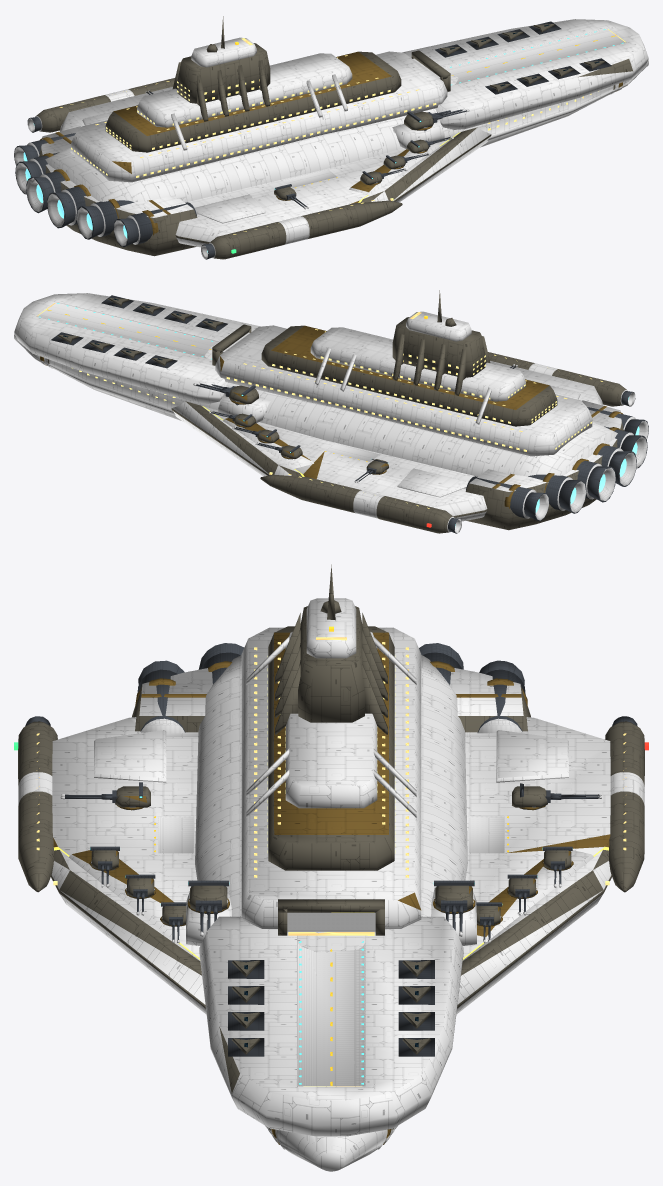
File: leviathan_production_v1_lod2.glb
The picture shows the model from 3 angles, top to bottom: view 1: azimuth 30°, elevation 25°; view 2: azimuth 150°, elevation 25°; view 3: azimuth 270°, elevation 25°; orthographic projection. The views are drawn at different scales.
Visible parts, largest first — view 1: LOD0_MOTION_HULL_CORE_Hull, LOD0_MOTION_HULL_CORE_Armor, LOD0_MOTION_HULL_CORE_MechanicalDark, LOD0_MOTION_HULL_CORE_Mechanical, LOD0_MOTION_HULL_CORE_Livery, LOD0_MOTION_HULL_CORE_Lights_Warm, LOD0_MOTION_HULL_CORE_HOOK_DRIVE_CORE; view 2: LOD0_MOTION_HULL_CORE_Hull, LOD0_MOTION_HULL_CORE_Armor, LOD0_MOTION_HULL_CORE_MechanicalDark, LOD0_MOTION_HULL_CORE_Mechanical, LOD0_MOTION_HULL_CORE_Livery, LOD0_MOTION_HULL_CORE_Lights_Warm, LOD0_MOTION_HULL_CORE_HOOK_ARMOR_PORT_Hull, LOD0_MOTION_HULL_CORE_HOOK_DRIVE_CORE; view 3: LOD0_MOTION_HULL_CORE_Hull, LOD0_MOTION_HULL_CORE_Armor, LOD0_MOTION_HULL_CORE_MechanicalDark, LOD0_MOTION_HULL_CORE_Mechanical, LOD0_MOTION_HULL_CORE_Livery, LOD0_MOTION_HULL_CORE_HOOK_ARMOR_PORT_Hull, LOD0_MOTION_HULL_CORE_Lights_Warm.
Part boxes in pixels (x1=…): LOD0_MOTION_HULL_CORE_Hull: x1=41, y1=19, x2=648, y2=247; LOD0_MOTION_HULL_CORE_Armor: x1=36, y1=24, x2=632, y2=259; LOD0_MOTION_HULL_CORE_MechanicalDark: x1=14, y1=27, x2=636, y2=259; LOD0_MOTION_HULL_CORE_Mechanical: x1=14, y1=21, x2=611, y2=259; LOD0_MOTION_HULL_CORE_Livery: x1=40, y1=51, x2=622, y2=235; LOD0_MOTION_HULL_CORE_Lights_Warm: x1=59, y1=29, x2=625, y2=234; LOD0_MOTION_HULL_CORE_HOOK_DRIVE_CORE: x1=23, y1=123, x2=208, y2=253; LOD0_MOTION_HULL_CORE_Hull: x1=14, y1=293, x2=621, y2=521; LOD0_MOTION_HULL_CORE_Armor: x1=47, y1=298, x2=626, y2=533; LOD0_MOTION_HULL_CORE_MechanicalDark: x1=26, y1=301, x2=648, y2=533; LOD0_MOTION_HULL_CORE_Mechanical: x1=51, y1=295, x2=648, y2=533; LOD0_MOTION_HULL_CORE_Livery: x1=40, y1=325, x2=622, y2=508; LOD0_MOTION_HULL_CORE_Lights_Warm: x1=37, y1=303, x2=602, y2=508; LOD0_MOTION_HULL_CORE_HOOK_ARMOR_PORT_Hull: x1=397, y1=468, x2=468, y2=497; LOD0_MOTION_HULL_CORE_HOOK_DRIVE_CORE: x1=455, y1=397, x2=639, y2=526; LOD0_MOTION_HULL_CORE_Hull: x1=18, y1=598, x2=644, y2=1171; LOD0_MOTION_HULL_CORE_Armor: x1=18, y1=606, x2=644, y2=1130; LOD0_MOTION_HULL_CORE_MechanicalDark: x1=61, y1=718, x2=571, y2=1155; LOD0_MOTION_HULL_CORE_Mechanical: x1=25, y1=643, x2=637, y2=1056; LOD0_MOTION_HULL_CORE_Livery: x1=53, y1=632, x2=610, y2=1144; LOD0_MOTION_HULL_CORE_HOOK_ARMOR_PORT_Hull: x1=496, y1=730, x2=568, y2=782; LOD0_MOTION_HULL_CORE_Lights_Warm: x1=36, y1=637, x2=626, y2=1086.
Size of what is drawn, in the model's own units: 61.1 by 17.36 by 33.12.
13 materials, 5 textured.
